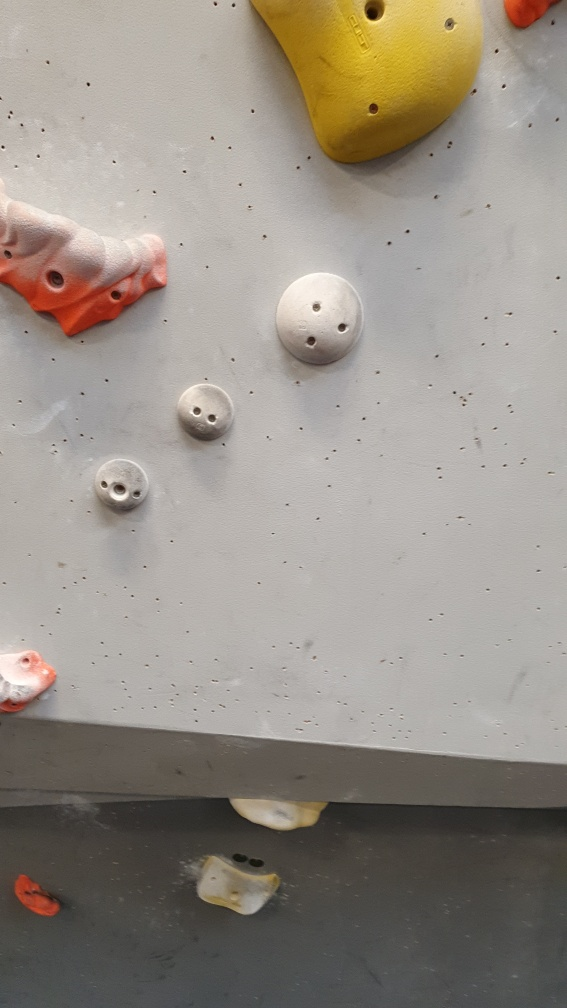Hand Start: (229, 846, 253, 868), (249, 855, 269, 875)
Jug: (1, 174, 174, 343), (12, 866, 68, 924)
Sloper: (271, 272, 365, 369), (90, 448, 154, 521), (176, 376, 239, 448)
